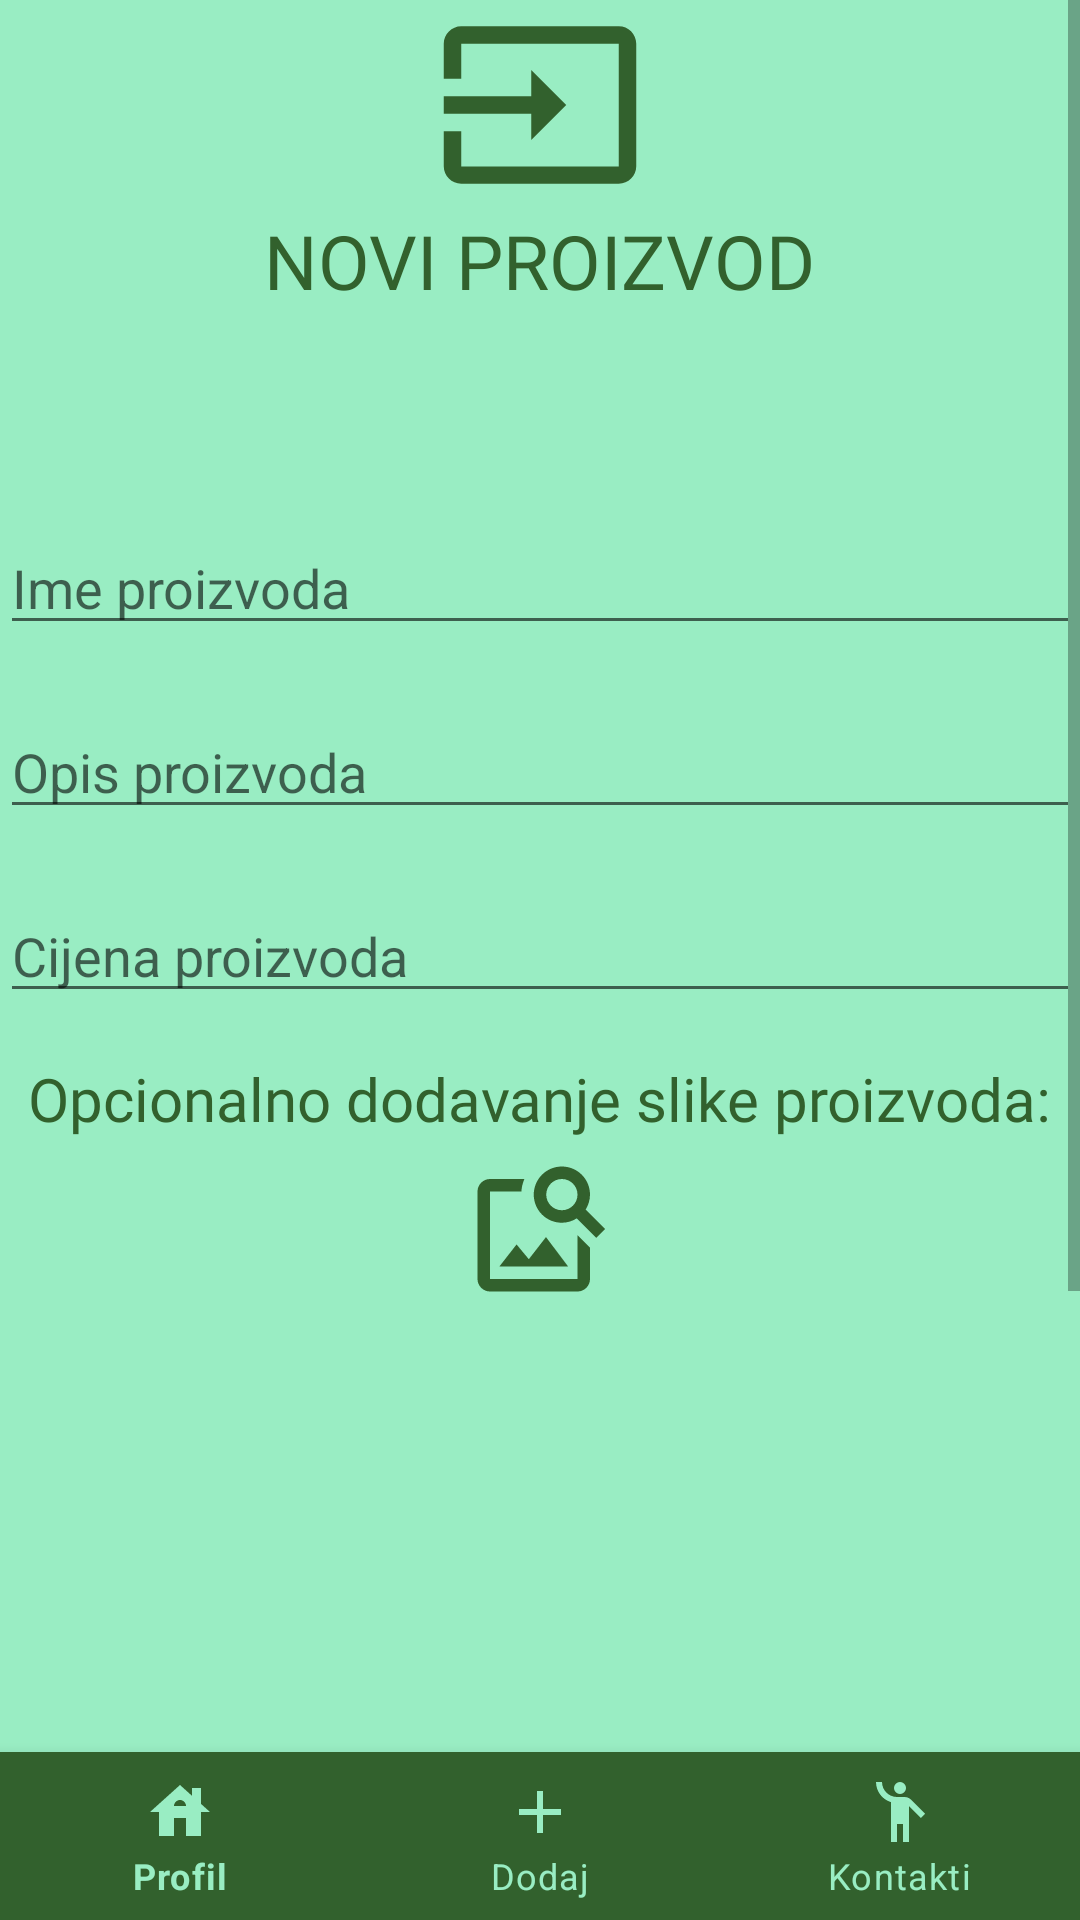

Point at icon controls on the screen. Image size 1080×1920, points as (x=x, y=y).
input: (x=540, y=105)
search picture: (x=541, y=1229)
